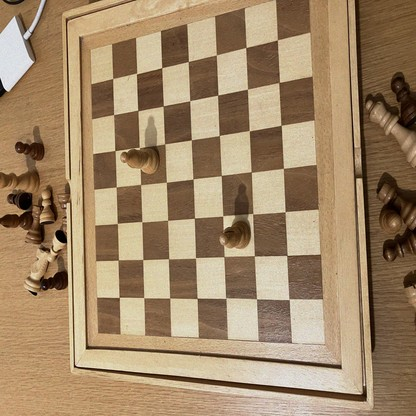bishop_white: (121, 147, 158, 174), (220, 221, 250, 247)
knight_white: (25, 246, 50, 294)
pawn_black: (392, 76, 416, 119), (42, 269, 68, 292), (14, 142, 44, 161), (6, 194, 32, 209)
pawn_white: (49, 229, 67, 262), (380, 207, 400, 234), (40, 189, 54, 223)
queen_white: (365, 97, 416, 170)
rock_black: (378, 183, 416, 225)
